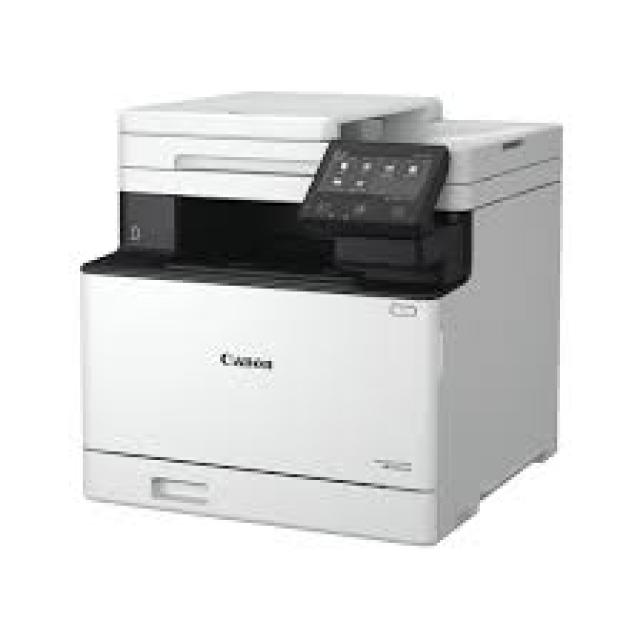printer: (77, 86, 563, 546)
